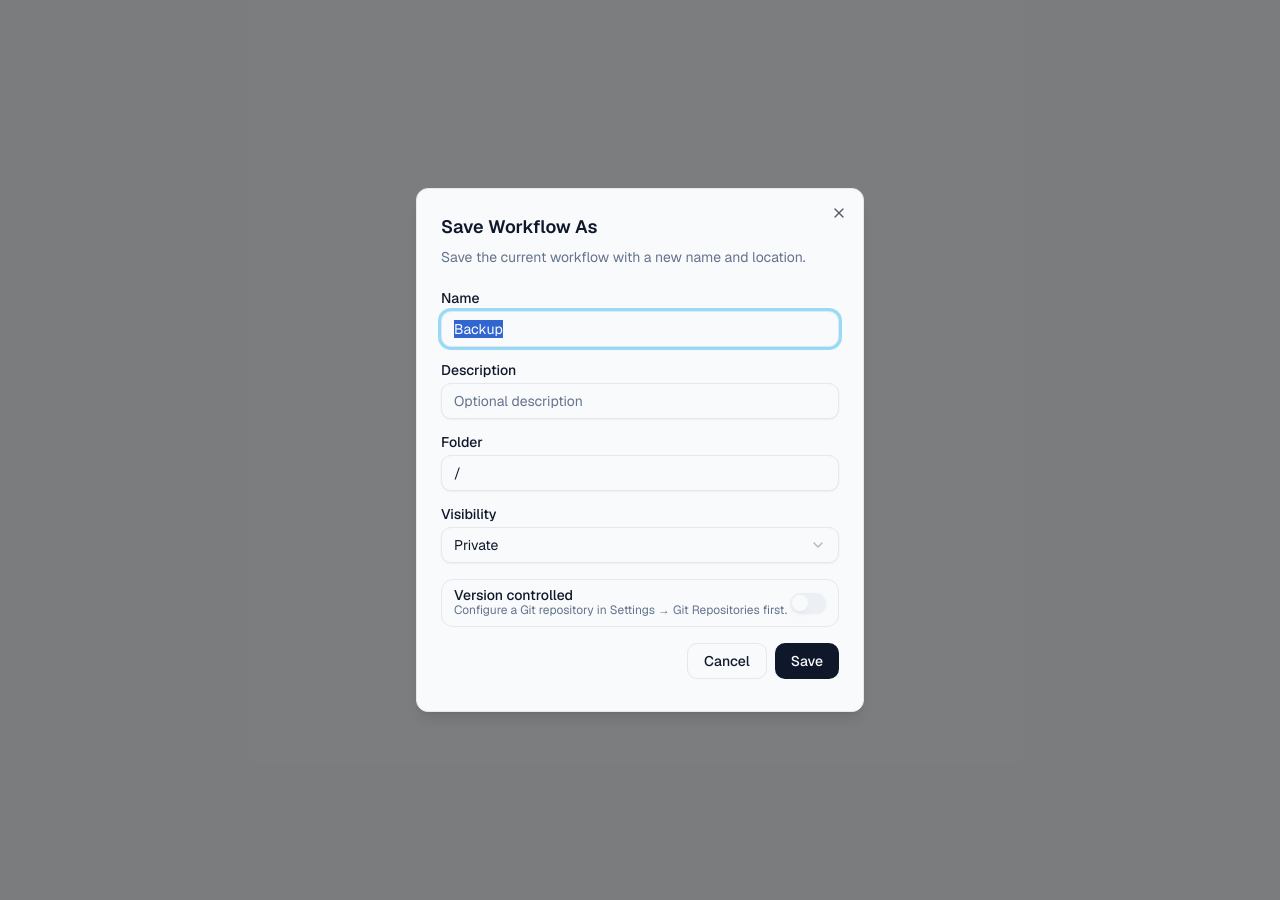
Test: WorkflowSaveAsDialog › falls back to a generic message when the server sends none
Click the button "Save" at {"x": 807, "y": 661}, box [775, 643, 839, 679]
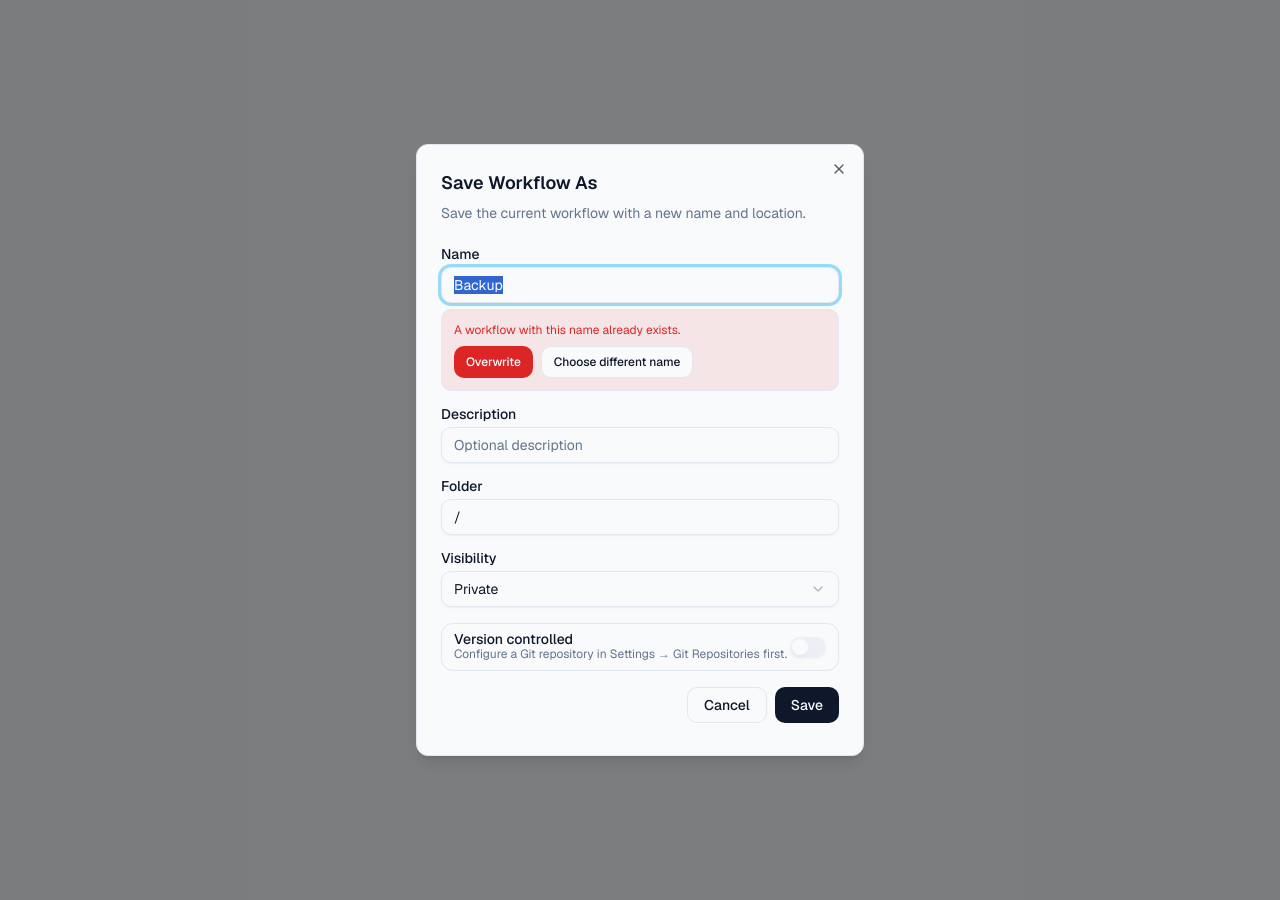
Result: the text "A workflow with this name already exists." is shown at [454, 322, 680, 338]
